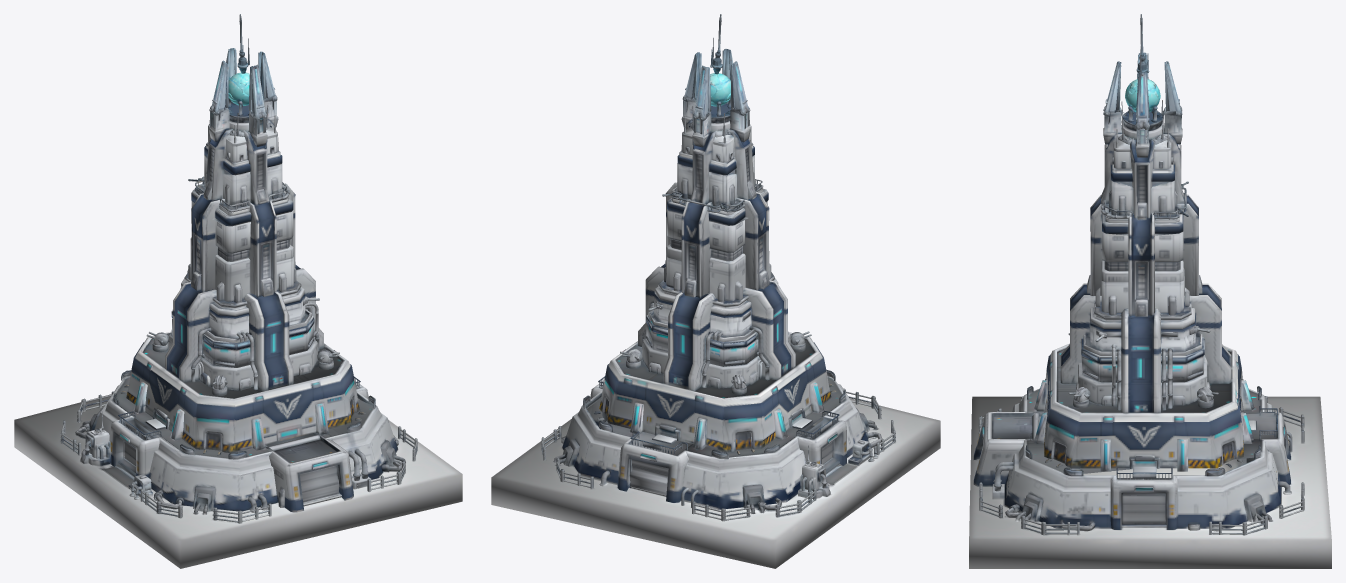
The model's file is 人類聯盟風_01巨塔_設計圖.glb.
3 renders of one model, left to right at view 1: azimuth 30°, elevation 25°; view 2: azimuth 150°, elevation 25°; view 3: azimuth 270°, elevation 25°, orthographic. The views are drawn at different scales.
Visible parts, largest first — view 1: tripo_node_4da8e601-4fb7-4946-a5d9-81b2c010d53d; view 2: tripo_node_4da8e601-4fb7-4946-a5d9-81b2c010d53d; view 3: tripo_node_4da8e601-4fb7-4946-a5d9-81b2c010d53d.
Part boxes in pixels (x1,y1,x2,y2): tripo_node_4da8e601-4fb7-4946-a5d9-81b2c010d53d: (14,14,462,568); tripo_node_4da8e601-4fb7-4946-a5d9-81b2c010d53d: (491,14,940,568); tripo_node_4da8e601-4fb7-4946-a5d9-81b2c010d53d: (969,14,1331,568).
Bounding box in the file's own units: 0.6362 × 0.9995 × 0.6802.
Materials: 1 (1 with a texture image).
